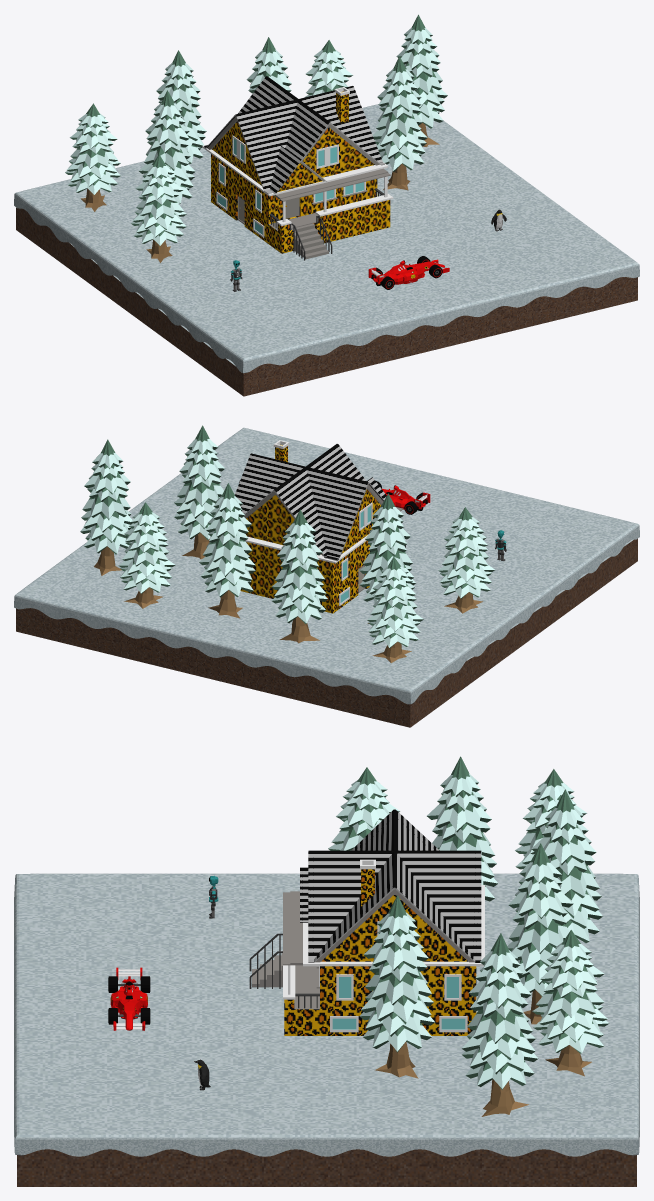
The picture shows the model from 3 angles, top to bottom: view 1: azimuth 30°, elevation 25°; view 2: azimuth 150°, elevation 25°; view 3: azimuth 270°, elevation 25°; orthographic projection. The views are drawn at different scales.
Parts seen in each view (by area): view 1: Cube.003, Cube.637, VEHICLES_FORMULA_1; view 2: Cube.003, Cube.637, VEHICLES_FORMULA_1; view 3: Cube.003, Cube.637, VEHICLES_FORMULA_1.
Part boxes in pixels (x1,y1,x2,y2): Cube.003: (14,14,639,396); Cube.637: (202,76,393,260); VEHICLES_FORMULA_1: (368,256,449,289); Cube.003: (14,425,639,727); Cube.637: (235,440,405,613); VEHICLES_FORMULA_1: (376,481,430,514); Cube.003: (14,756,639,1186); Cube.637: (249,809,484,1035); VEHICLES_FORMULA_1: (108,967,150,1030).
Bounding box in the file's own units: 4040 × 1700 × 4040.
33 materials, 4 textured.
